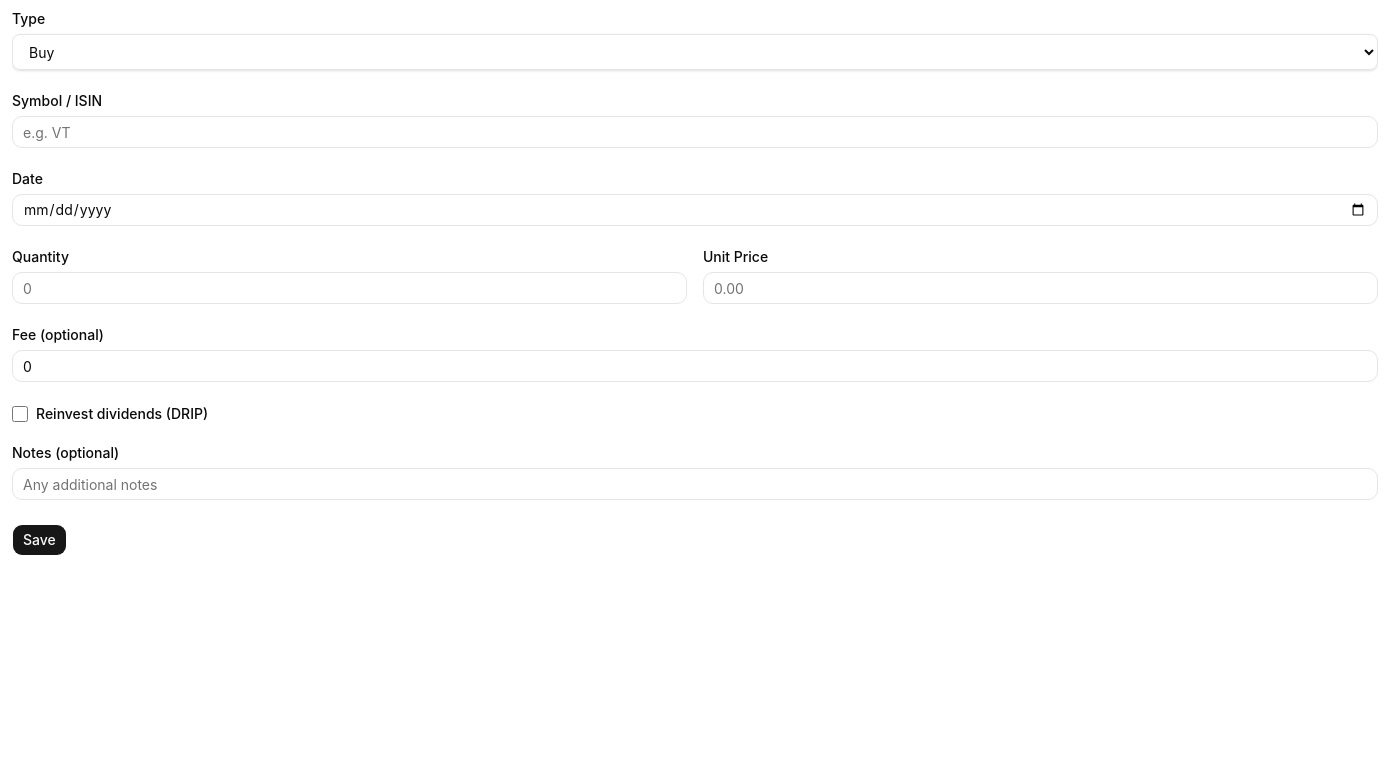
Test: TransactionForm › shows DRIP option when type is BUY
Expected: the checkbox labelled "Reinvest dividends (DRIP)" is shown, [12, 406, 28, 422]
Step 1. Select "Sell" in the dropdown labelled "Type" → (695, 52), box [12, 34, 1378, 70]
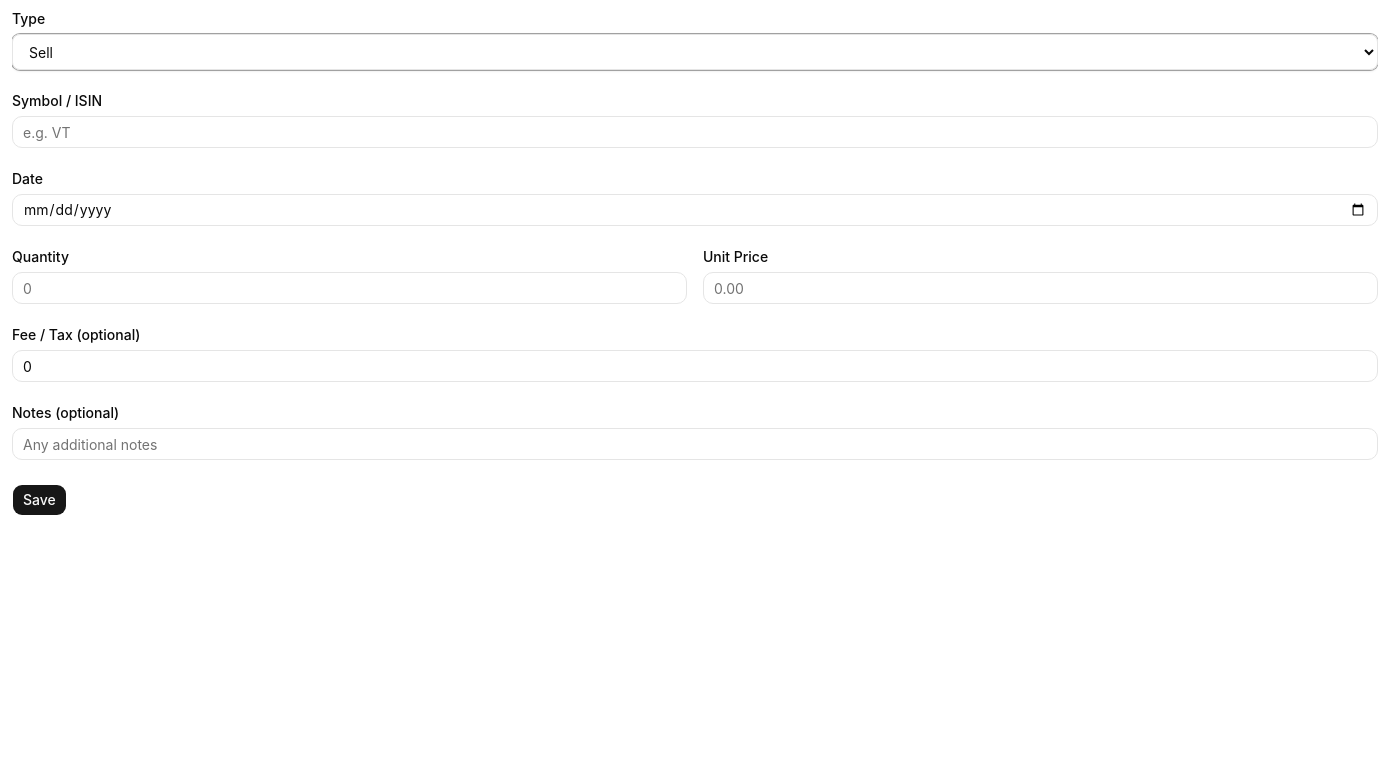
Expected: the label labelled "Reinvest dividends" is gone
